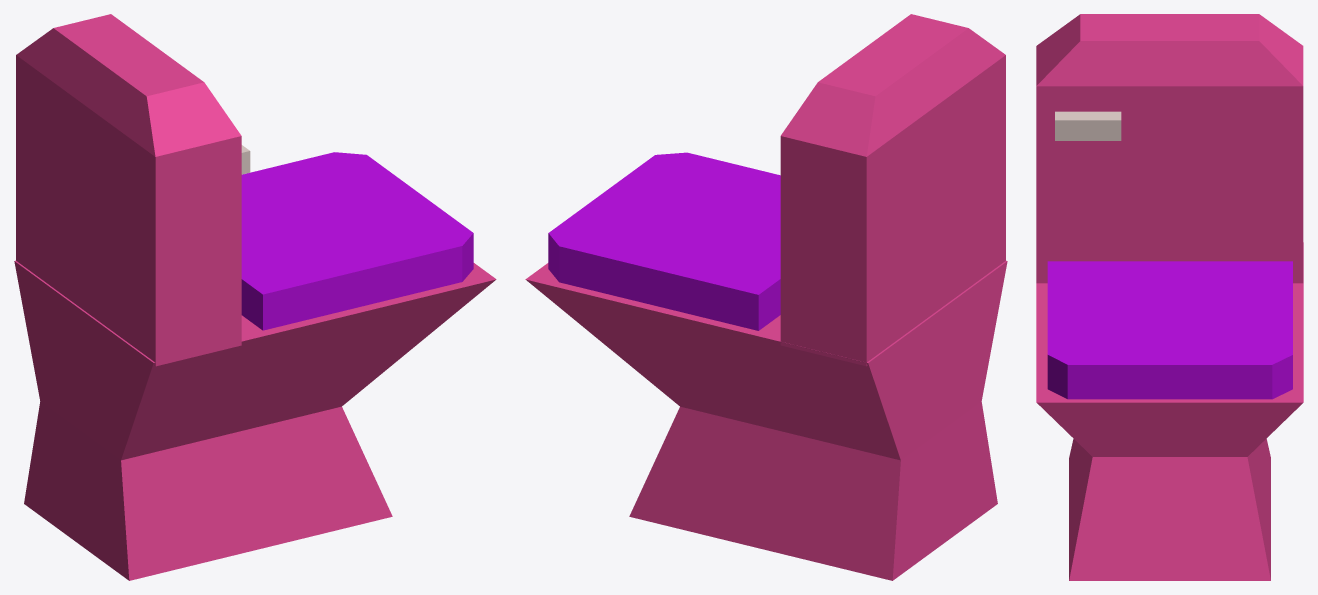
File: Toilet.fbx
The picture shows the model from 3 angles, left to right: view 1: azimuth 30°, elevation 25°; view 2: azimuth 150°, elevation 25°; view 3: azimuth 270°, elevation 25°; orthographic projection. The views are drawn at different scales.
Visible parts, largest first — view 1: Toilet, Tank; view 2: Toilet, Tank; view 3: Toilet, Tank, Flusher.
Part boxes in pixels (x1,y1,x2,y2): Toilet: [14, 152, 496, 580]; Tank: [16, 14, 241, 366]; Toilet: [525, 152, 1007, 580]; Tank: [780, 14, 1005, 366]; Toilet: [1036, 242, 1303, 580]; Tank: [1036, 14, 1303, 283]; Flusher: [1055, 111, 1121, 140].
Bounding box in the file's own units: 88.07 × 114 × 60.75.
